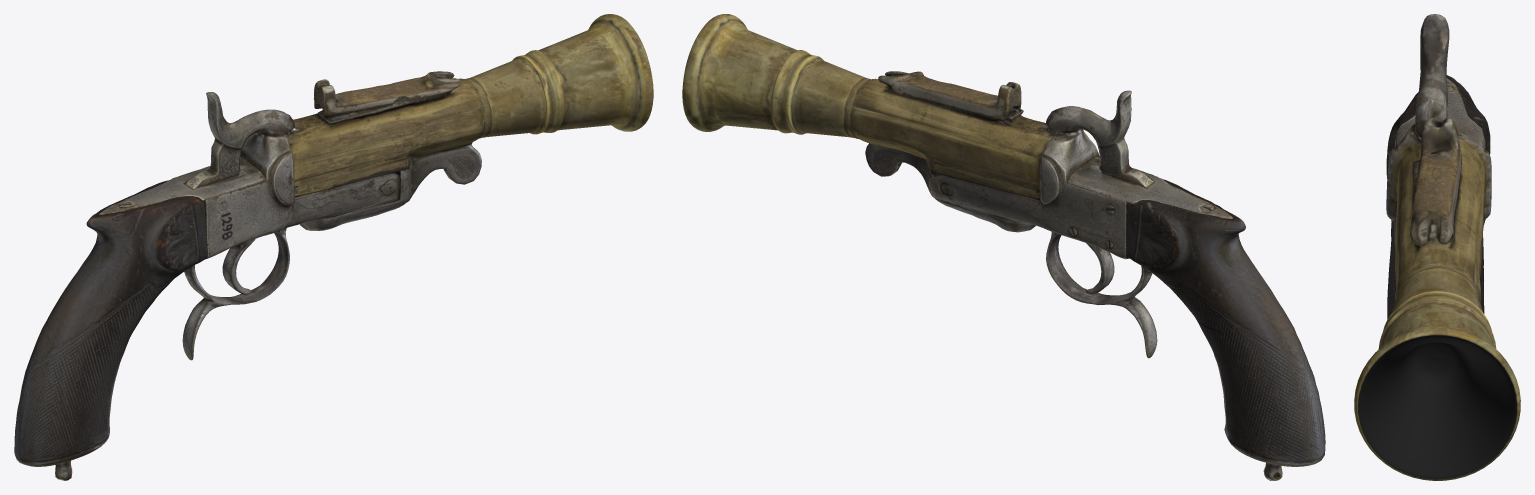
Rendered from Gun_1298_01.gltf.
The picture shows the model from 3 angles, left to right: view 1: azimuth 30°, elevation 25°; view 2: azimuth 150°, elevation 25°; view 3: azimuth 270°, elevation 25°; orthographic projection. The views are drawn at different scales.
Parts seen in each view (by area): view 1: for_zbrush5:cyl_low.001; view 2: for_zbrush5:cyl_low.001; view 3: for_zbrush5:cyl_low.001.
Boxes of the visible parts, <box> form: for_zbrush5:cyl_low.001: <box>14,14,653,480</box>; for_zbrush5:cyl_low.001: <box>682,14,1325,480</box>; for_zbrush5:cyl_low.001: <box>1354,14,1520,480</box>.
Size of the model in its own units: 0.4149 by 0.2295 by 0.0709.
1 material, 1 textured.
